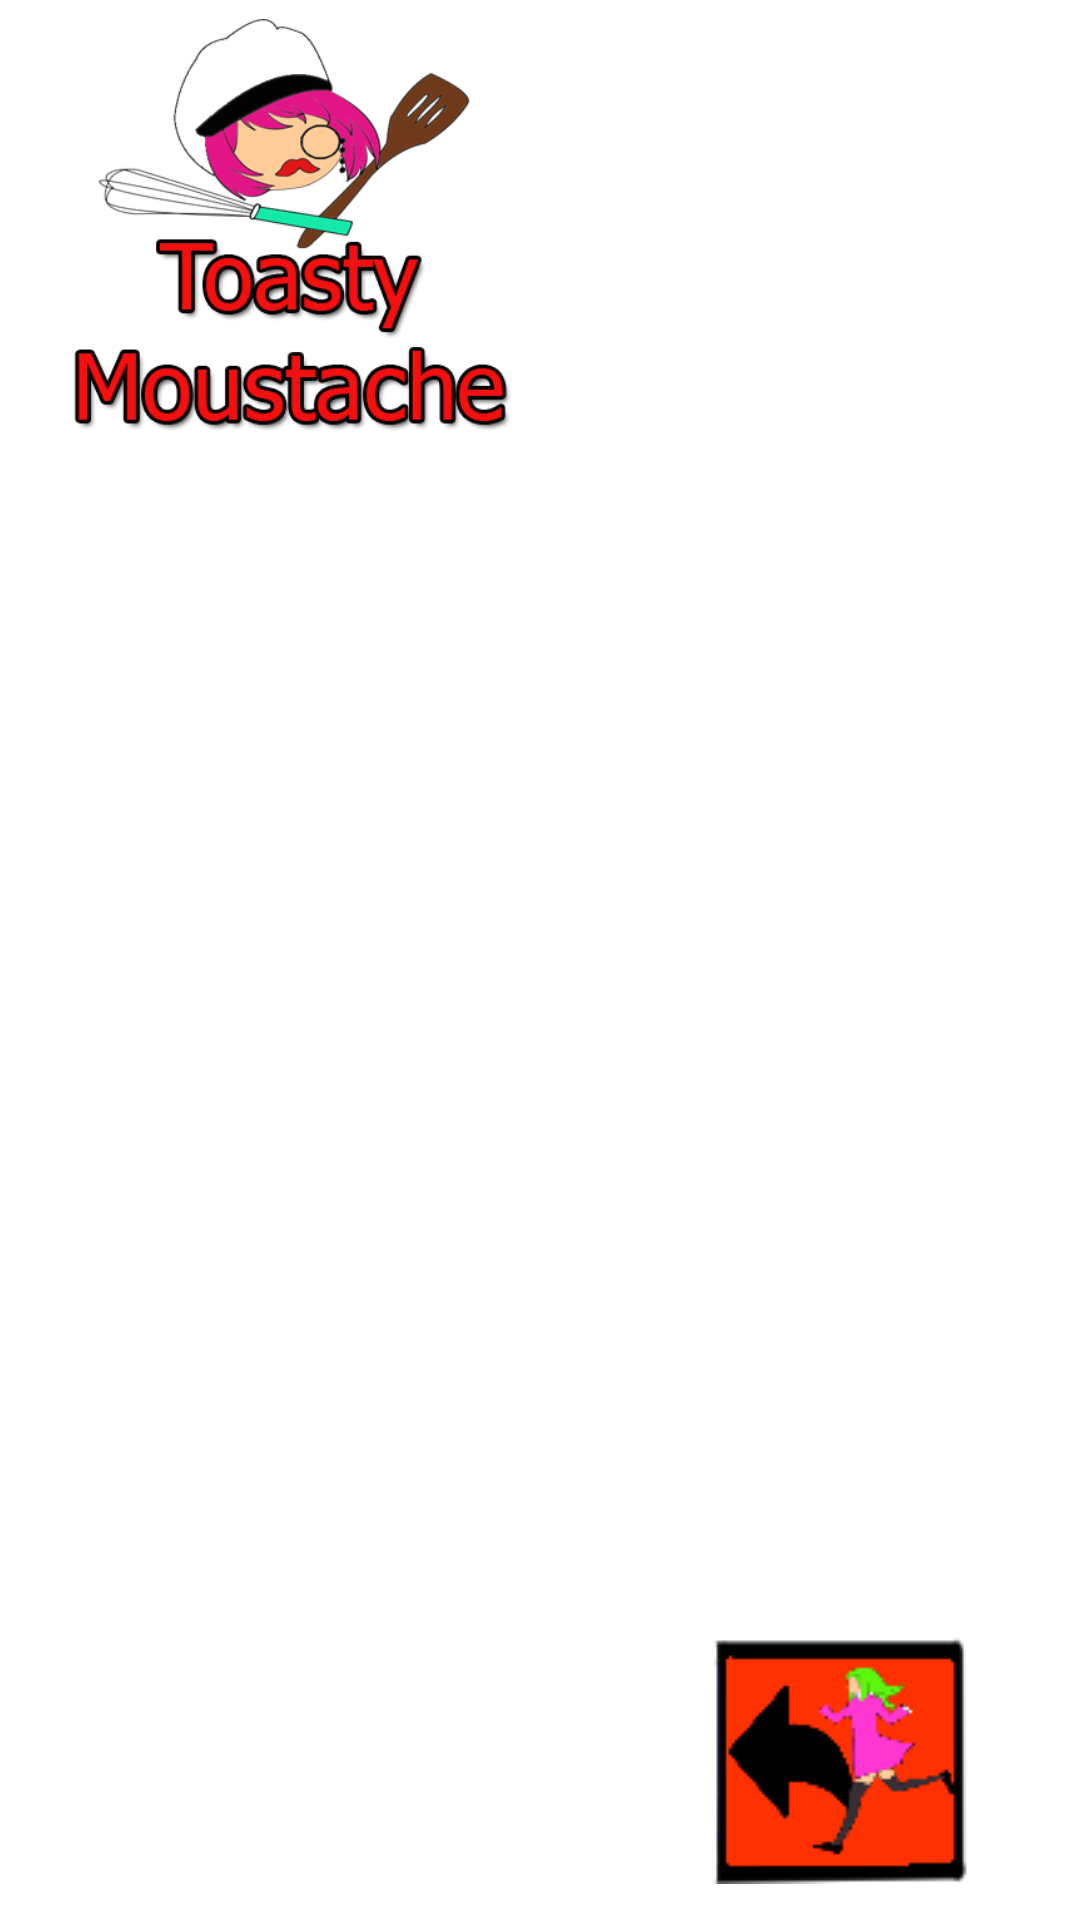

Icons on this 1080×1920 Android screen, each with its box as (x1, y1, x2, y2):
volver rojo: (715, 1639, 967, 1884)
